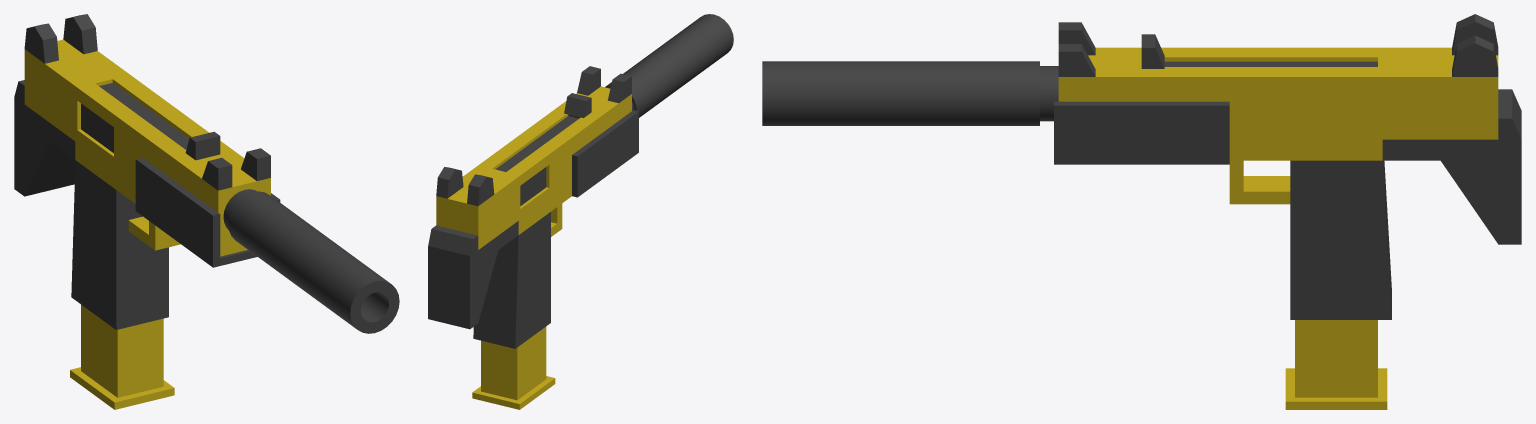
Rendered from uziGoldLongSilencer.fbx.
3 views of the same model, side by side, from view 1: azimuth 30°, elevation 25°; view 2: azimuth 150°, elevation 25°; view 3: azimuth 270°, elevation 25° (orthographic). The views are drawn at different scales.
Visible parts, largest first — view 1: Mesh1_Group2 Group1 Model, Mesh5_Group6 Group1 Model, Mesh2_Group3 Group1 Model, Mesh3_Group4 Group1 Model, Mesh4_Group5 Group1 Model; view 2: Mesh1_Group2 Group1 Model, Mesh3_Group4 Group1 Model, Mesh5_Group6 Group1 Model, Mesh2_Group3 Group1 Model, Mesh4_Group5 Group1 Model; view 3: Mesh1_Group2 Group1 Model, Mesh5_Group6 Group1 Model, Mesh3_Group4 Group1 Model, Mesh2_Group3 Group1 Model, Mesh4_Group5 Group1 Model.
Part boxes in pixels (<box>): Mesh1_Group2 Group1 Model: <box>24,14,280,329</box>; Mesh5_Group6 Group1 Model: <box>228,191,399,333</box>; Mesh2_Group3 Group1 Model: <box>70,304,174,409</box>; Mesh3_Group4 Group1 Model: <box>14,80,75,196</box>; Mesh4_Group5 Group1 Model: <box>185,131,220,160</box>; Mesh1_Group2 Group1 Model: <box>436,66,638,348</box>; Mesh3_Group4 Group1 Model: <box>428,221,518,329</box>; Mesh5_Group6 Group1 Model: <box>605,14,733,117</box>; Mesh2_Group3 Group1 Model: <box>472,326,555,409</box>; Mesh4_Group5 Group1 Model: <box>564,93,591,118</box>; Mesh1_Group2 Group1 Model: <box>1040,14,1498,319</box>; Mesh5_Group6 Group1 Model: <box>762,61,1039,125</box>; Mesh3_Group4 Group1 Model: <box>1382,89,1521,244</box>; Mesh2_Group3 Group1 Model: <box>1285,320,1387,409</box>; Mesh4_Group5 Group1 Model: <box>1141,34,1164,68</box>.
Bounding box in the file's own units: 0.0114 × 0.0522 × 0.0985.
